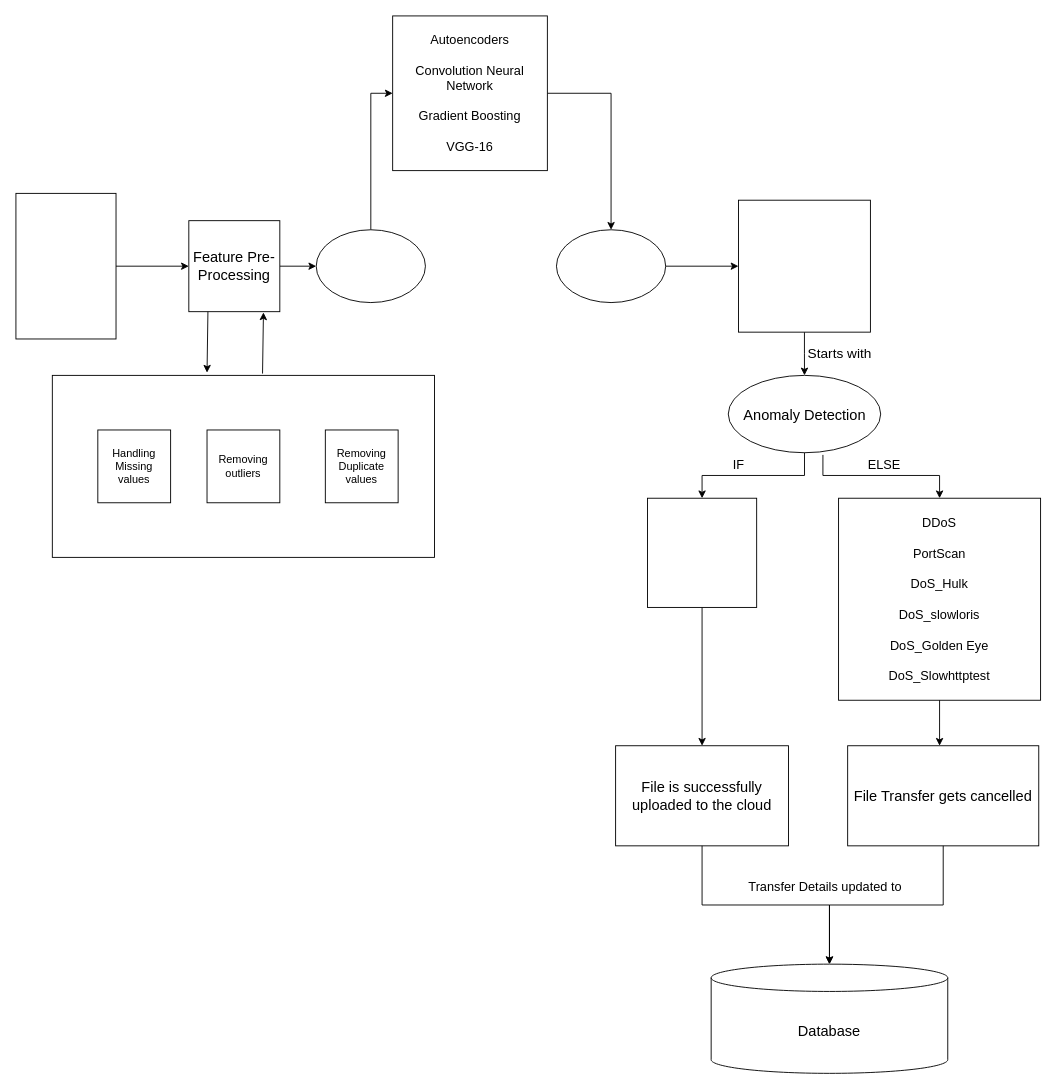
Some shapes in this 1057 by 1089 pixel diagram are drawn without their labels. Each missing label, with the centre of its shape:
"Legitimate (Normal)" belongs at (x=702, y=552).
"Load Models" belongs at (x=611, y=266).
"Model Training" belongs at (x=370, y=266).
"Network Traffic Data" belongs at (x=65, y=265).
"Starting File Transfer to Cloud" belongs at (x=804, y=265).
